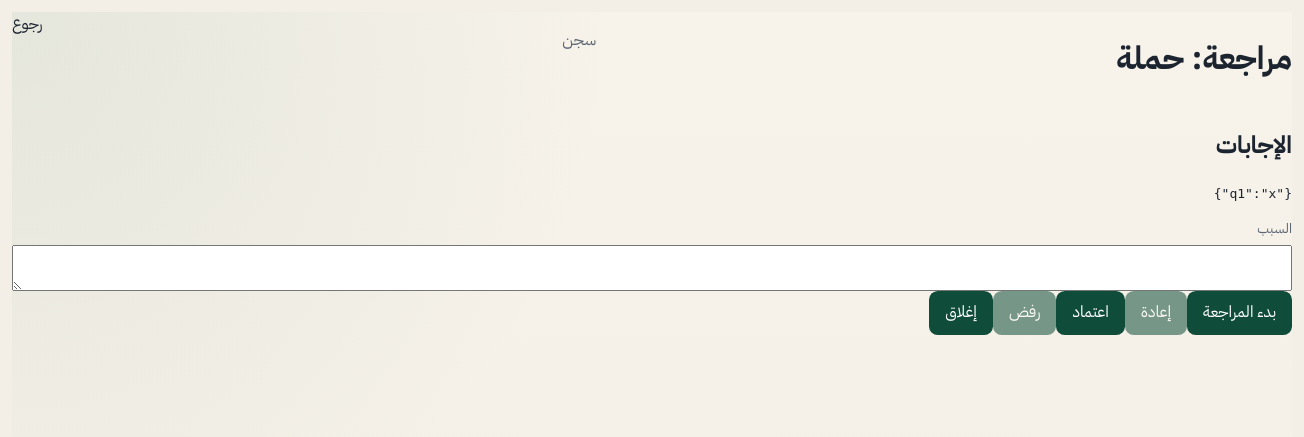
it: FormResponseReviewDetailPage › shows alert on approve error status 403
The width and height of the screenshot is (1304, 437).
Click the button "اعتماد".
click(1091, 313)  # box [1056,291,1125,335]
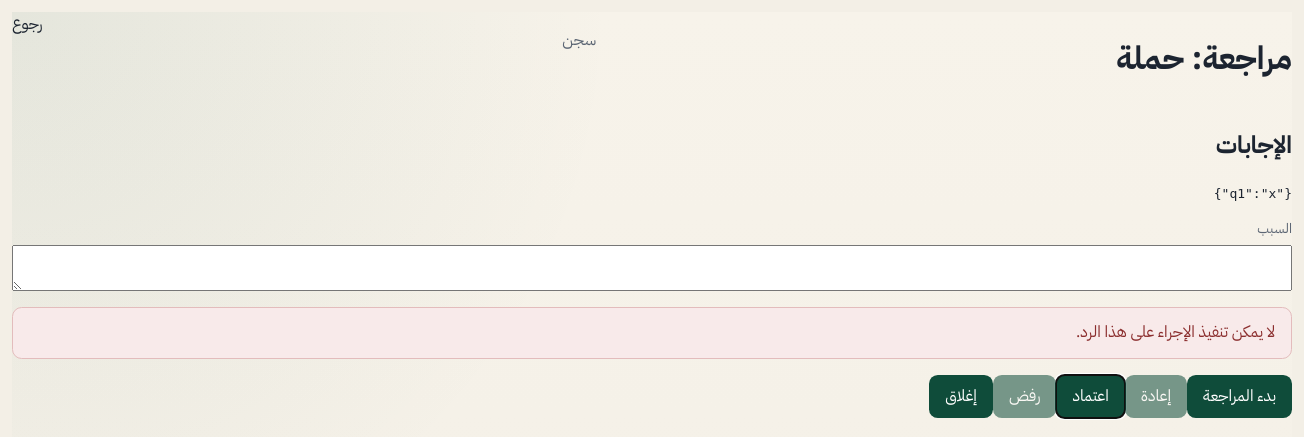
Now the message shows "لا يمكن تنفيذ", box [1076,320,1275,344]
